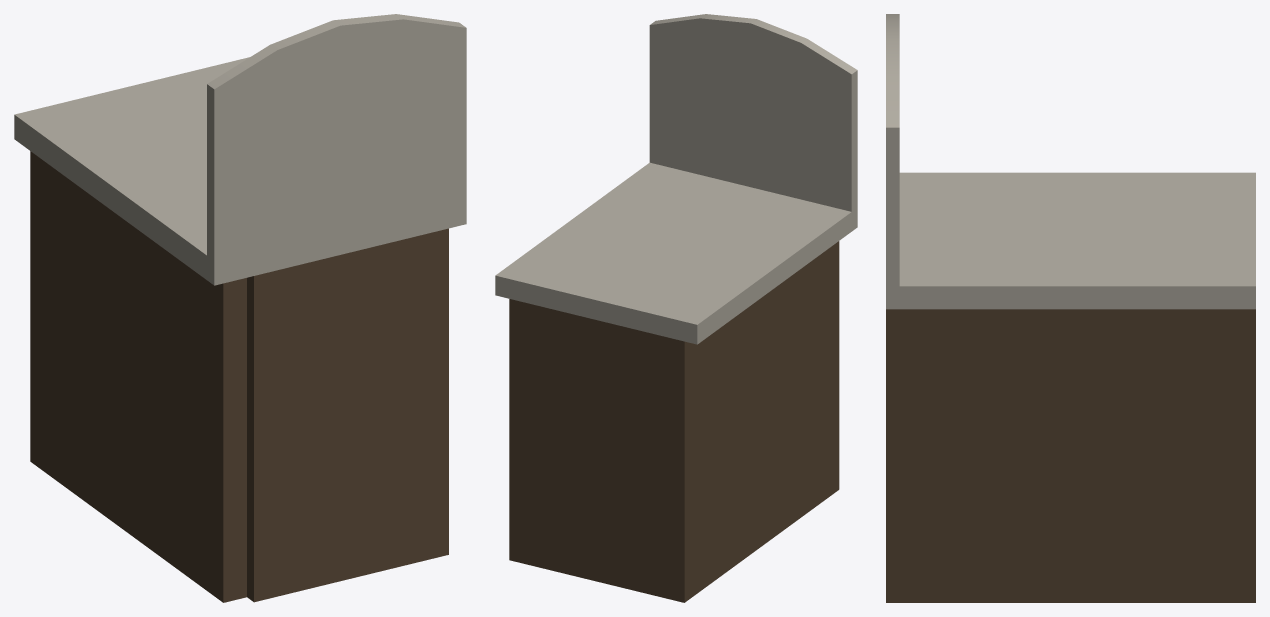
The model's file is SM_shopCounter_02.glb.
The picture shows the model from 3 angles, left to right: view 1: azimuth 30°, elevation 25°; view 2: azimuth 150°, elevation 25°; view 3: azimuth 270°, elevation 25°; orthographic projection. The views are drawn at different scales.
Visible parts, largest first — view 1: SM_shopCounter_02; view 2: SM_shopCounter_02; view 3: SM_shopCounter_02.
Part boxes in pixels (x1,y1,x2,y2): SM_shopCounter_02: [14, 14, 466, 602]; SM_shopCounter_02: [495, 14, 857, 602]; SM_shopCounter_02: [886, 14, 1255, 602].
Size of the model in its own units: 0.7281 by 1.53 by 1.
Materials: 1 (1 with a texture image).
